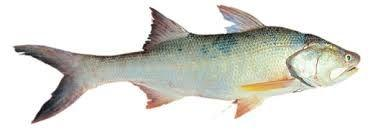Fourfinger Threadfish: (13, 3, 360, 125)
